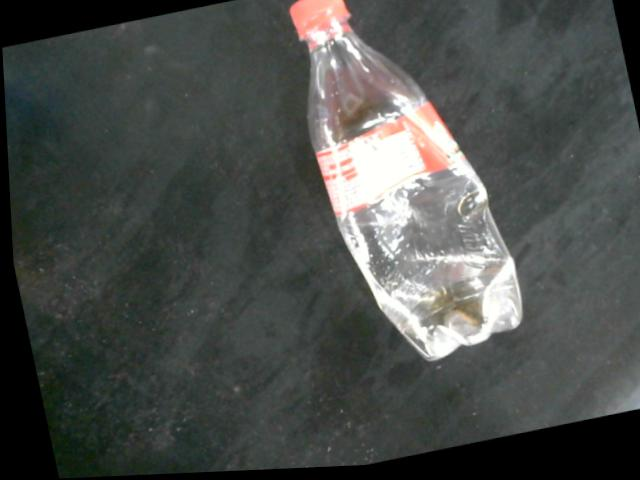bottle: (285, 0, 520, 369)
